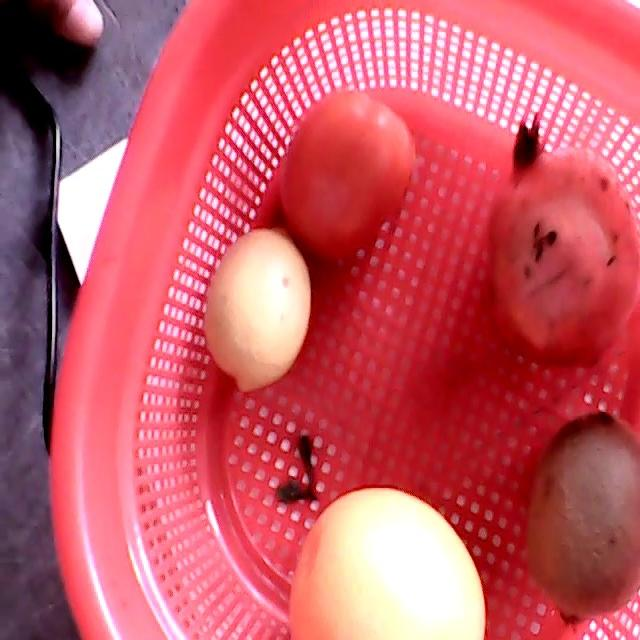kiwi: (524, 410, 639, 632)
lemon: (202, 226, 311, 392)
orange: (289, 491, 486, 636)
pomegranate: (480, 117, 639, 369)
tomato: (282, 89, 415, 269)
